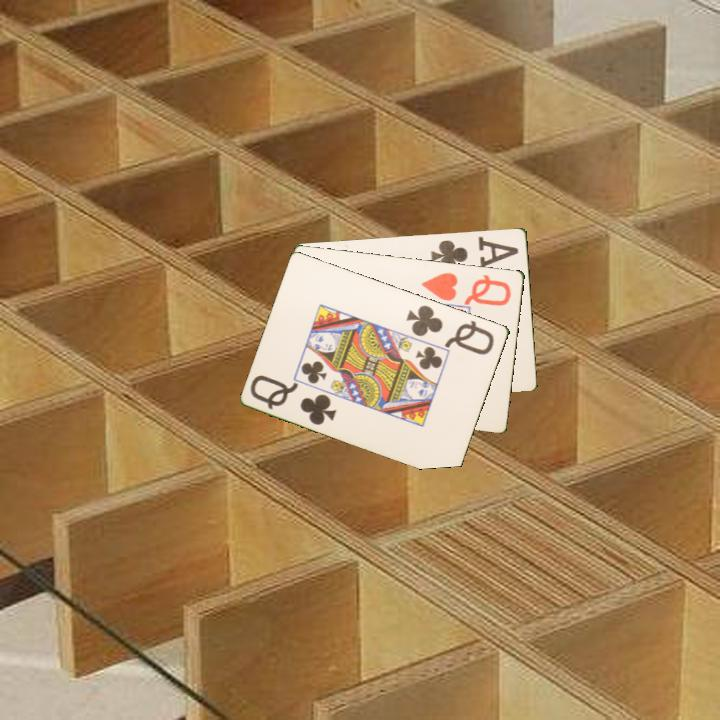Ac: (427, 232, 521, 274)
Qc: (403, 301, 497, 358), (247, 371, 340, 428)
Qh: (418, 268, 514, 309)
